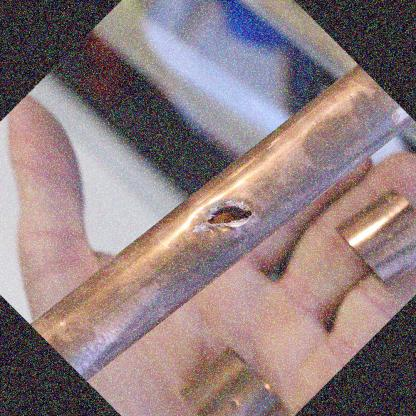burst: (199, 195, 265, 246)
